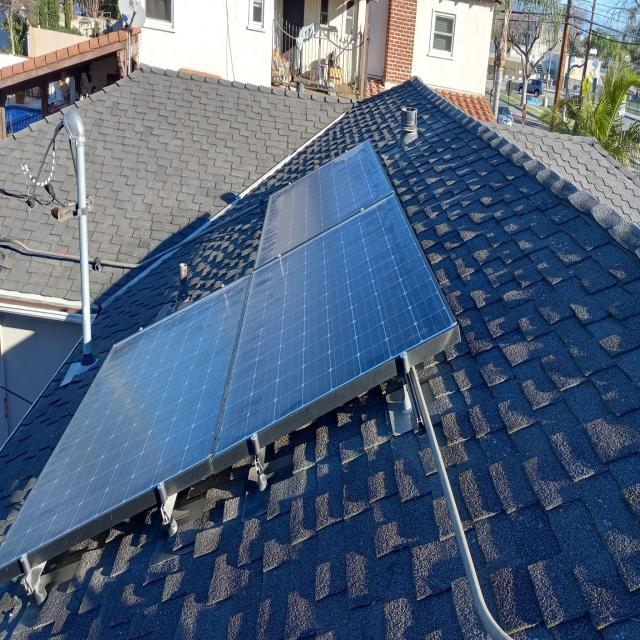clean-solar-panel: (0, 142, 459, 582)
